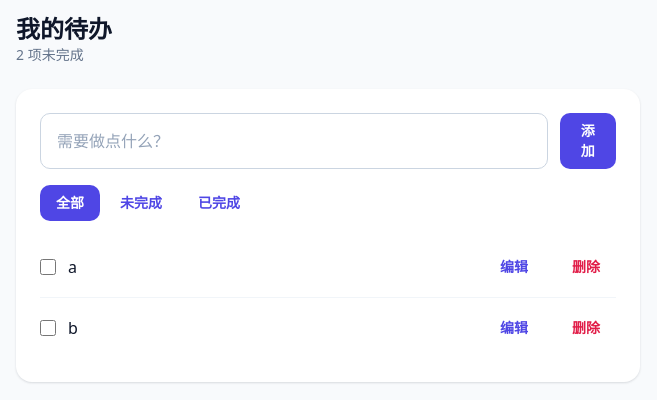
Test: 完成状态与筛选交互 (todo-completion, 第 8 组) › decrements the active count when a todo is completed (8.5)
Expected: the text "a" is shown, [68, 256, 77, 278]
Expected: the text with test id "active-count" reads "2 项未完成", [16, 45, 84, 64]
Click the 1st checkbox at [48, 267], box [40, 259, 56, 275]
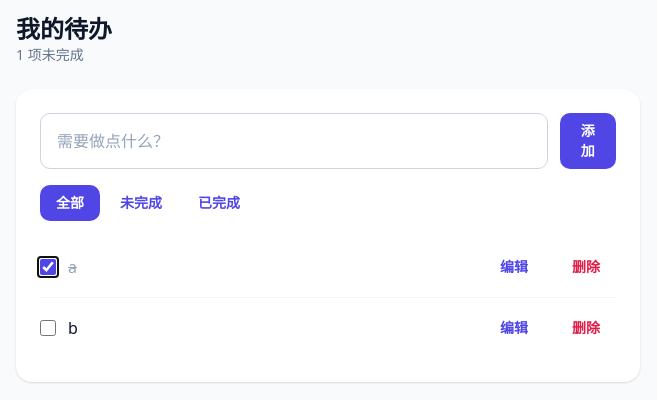
Expected: the text with test id "active-count" reads "1 项未完成", [16, 45, 84, 64]
